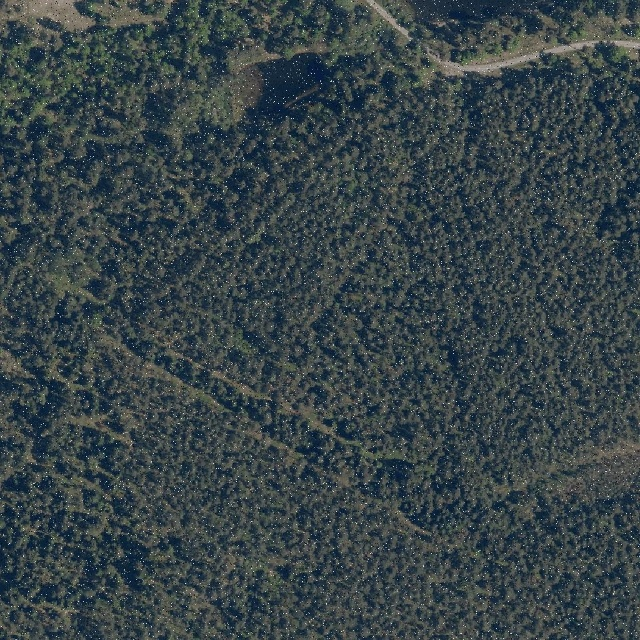vegetation: (0, 0, 640, 640)
